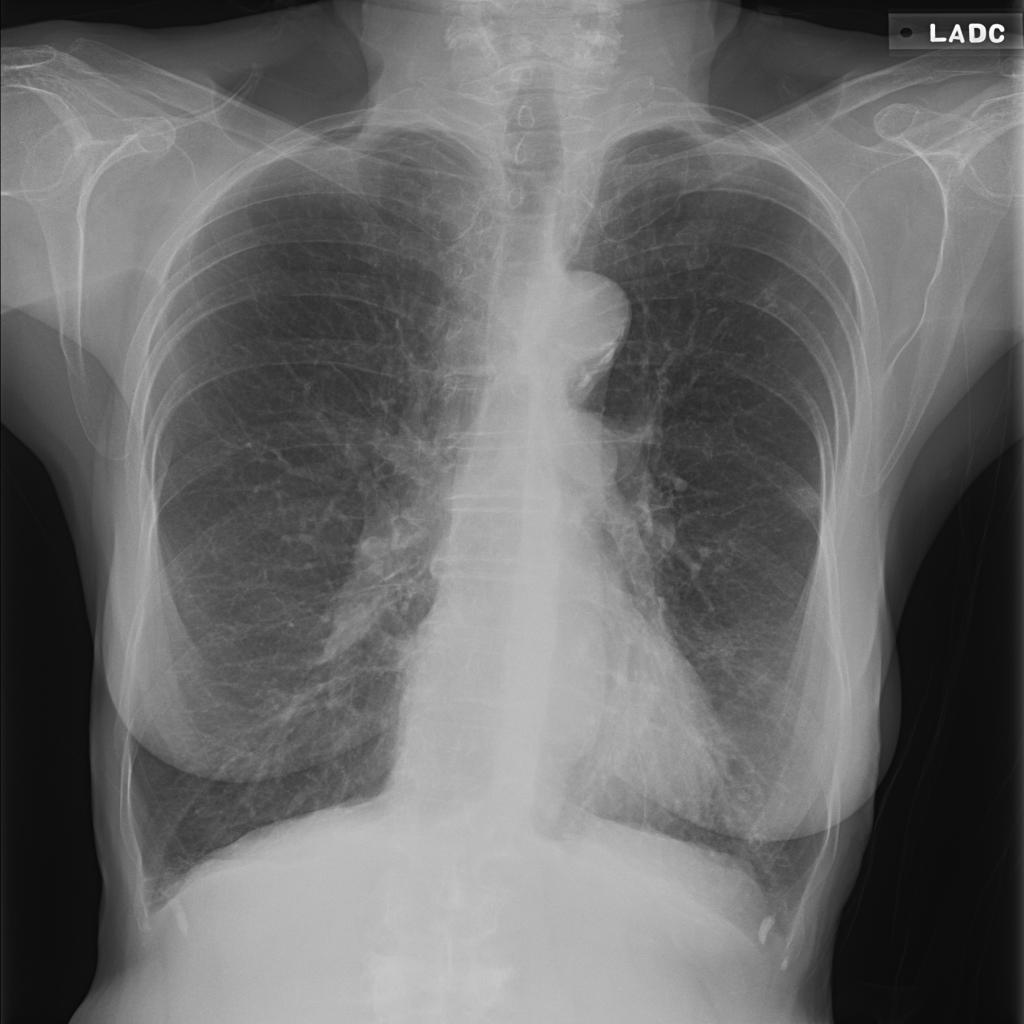Nodule: (440, 143, 469, 162), (466, 245, 491, 264)
